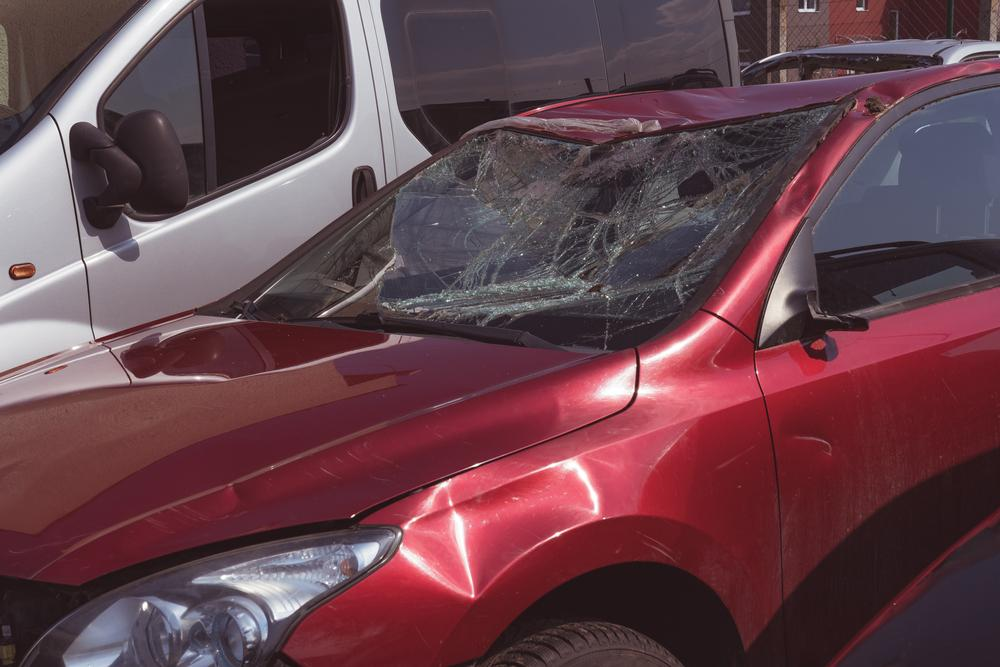dent: (401, 457, 602, 595), (540, 85, 834, 126), (780, 419, 845, 458)
glass shatter: (235, 104, 835, 349)
